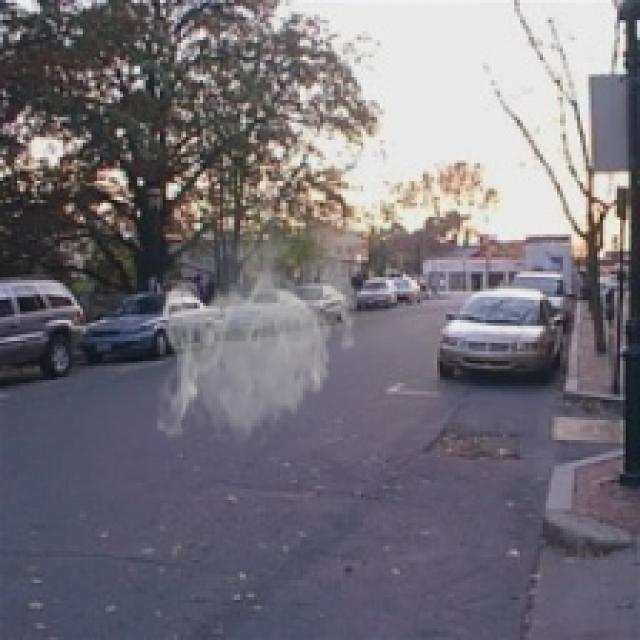smoke: (157, 188, 369, 446)
